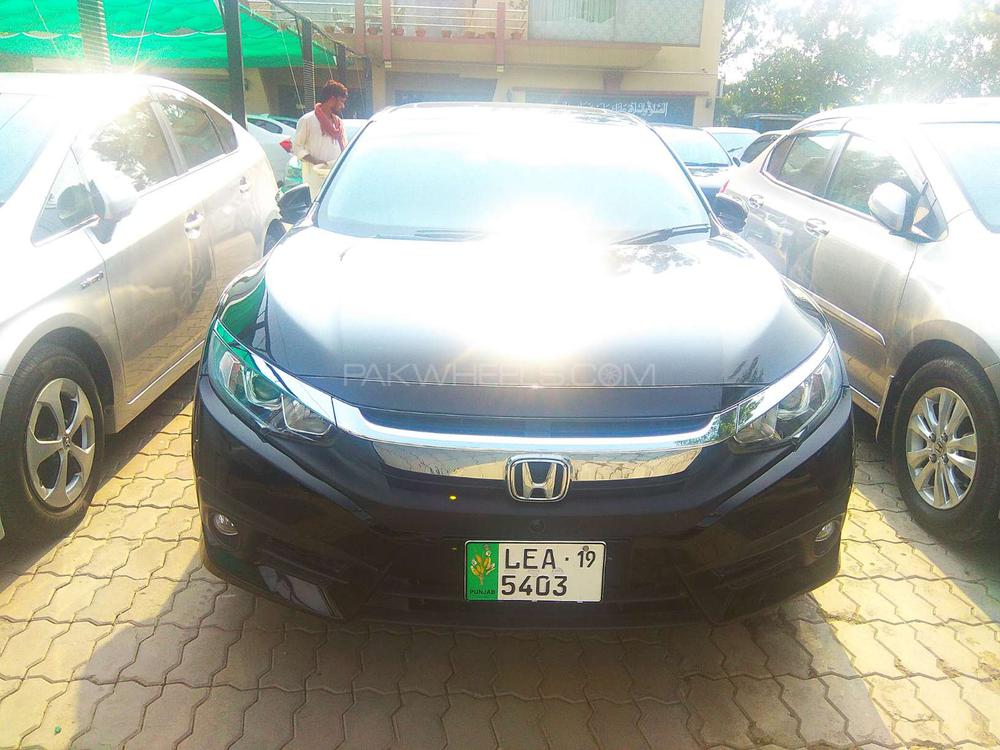license plate: (466, 538, 603, 600)
